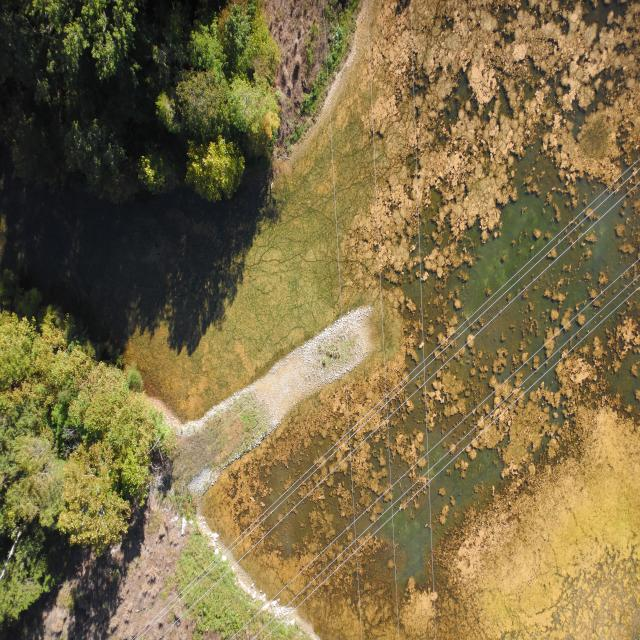Area of Interest: (6, 306, 164, 619), (12, 17, 274, 178)
